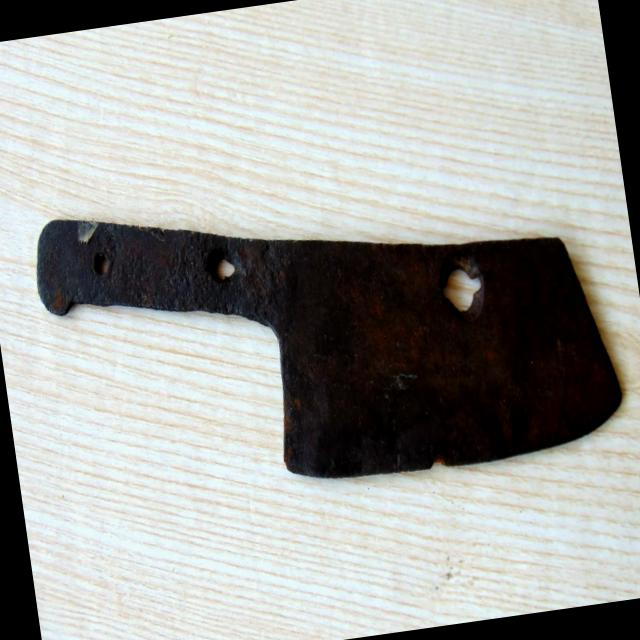cleaver: (33, 148, 628, 512)
